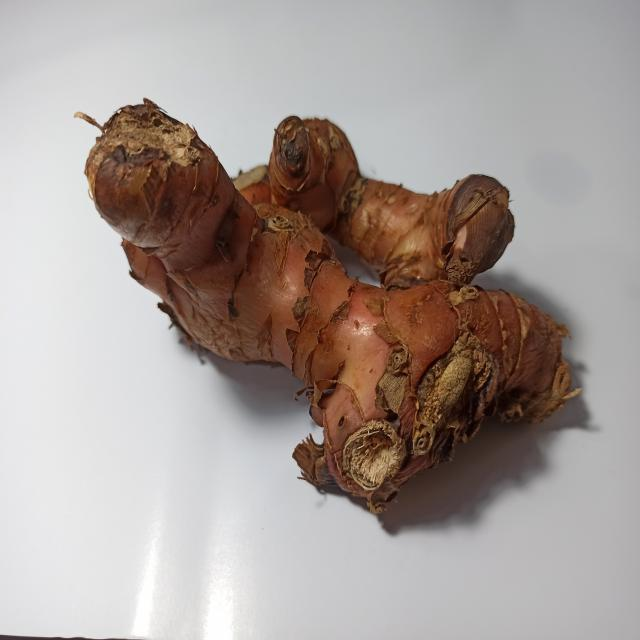ginger: (85, 92, 591, 506)
